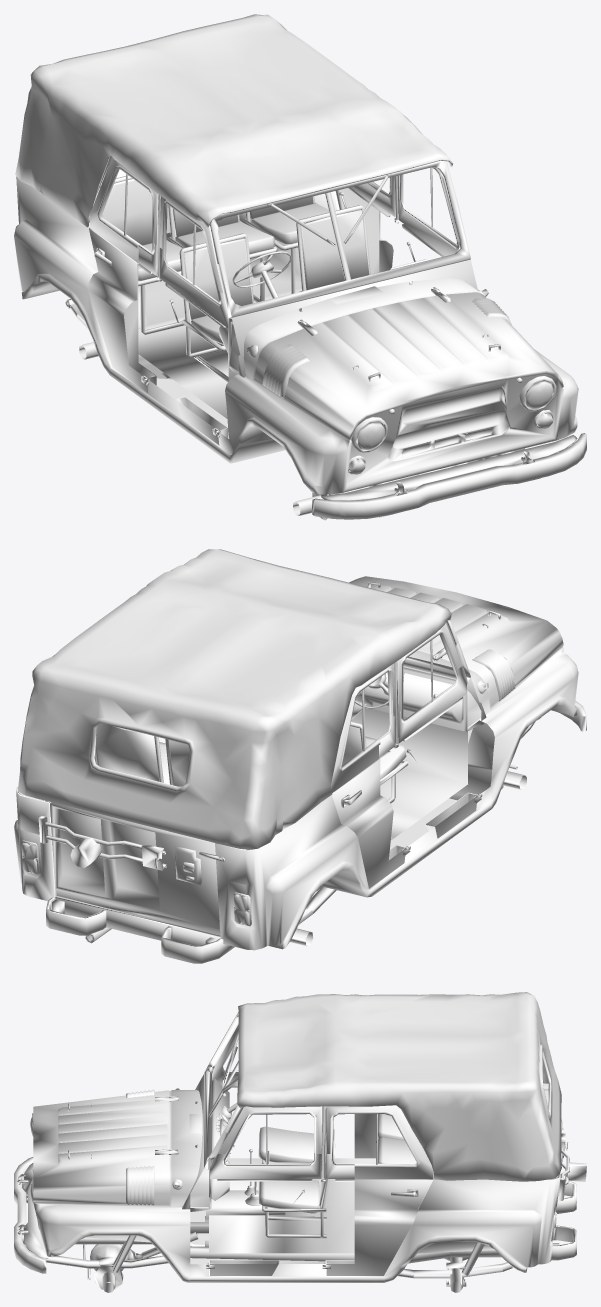
3 renders of one model, top to bottom at view 1: azimuth 30°, elevation 25°; view 2: azimuth 150°, elevation 25°; view 3: azimuth 270°, elevation 25°, orthographic. The views are drawn at different scales.
Size of the model in its own units: 1.76 by 1.68 by 3.91.
1 material, 1 textured.
